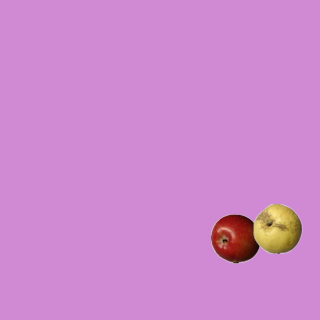Apple Braeburn: (210, 213, 260, 263)
Apple Golden 1: (252, 203, 302, 253)
